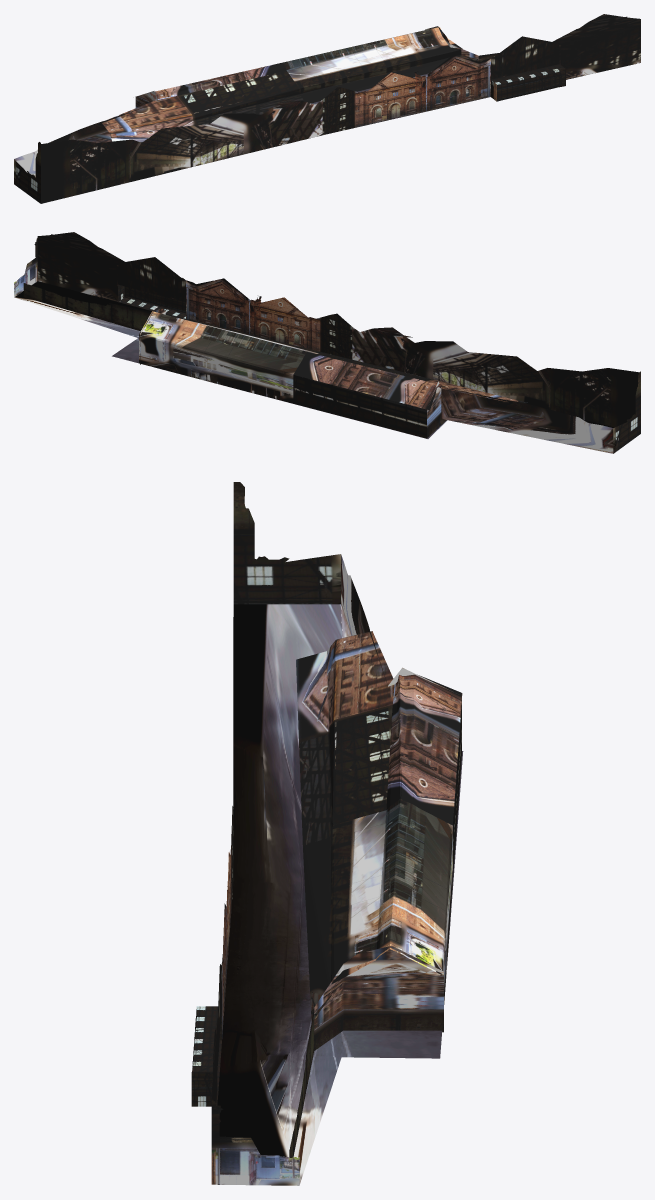
3 views of the same model, one above another, from view 1: azimuth 30°, elevation 25°; view 2: azimuth 150°, elevation 25°; view 3: azimuth 270°, elevation 25° (orthographic). The views are drawn at different scales.
Visible parts, largest first — view 1: m_CW_Walls; view 2: m_CW_Walls, m_CW_Floor; view 3: m_CW_Walls, m_CW_Floor.
Part boxes in pixels (left/top/right/bottom): m_CW_Walls: left=14, top=14, right=640, bottom=203; m_CW_Walls: left=14, top=232, right=640, bottom=453; m_CW_Floor: left=14, top=281, right=614, bottom=438; m_CW_Walls: left=191, top=482, right=462, bottom=1185; m_CW_Floor: left=217, top=604, right=463, bottom=1184.
Size of the model in its own units: 173 by 17.21 by 34.18.
